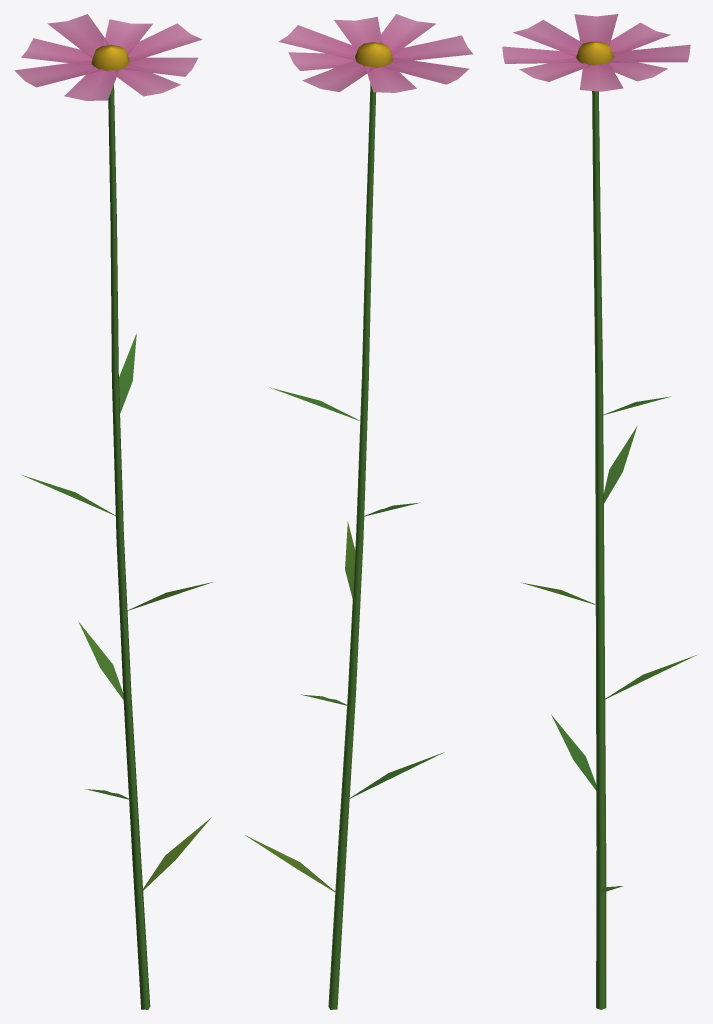
File: flower-cosmos-a.lod0.glb
The picture shows the model from 3 angles, left to right: view 1: azimuth 30°, elevation 25°; view 2: azimuth 150°, elevation 25°; view 3: azimuth 270°, elevation 25°; orthographic projection. The views are drawn at different scales.
Visible parts, largest first — view 1: flower-cosmos-a.lod0; view 2: flower-cosmos-a.lod0; view 3: flower-cosmos-a.lod0.
Boxes of the visible parts, bbox=[...] form: flower-cosmos-a.lod0: bbox=[14, 14, 212, 1009]; flower-cosmos-a.lod0: bbox=[245, 14, 473, 1009]; flower-cosmos-a.lod0: bbox=[502, 14, 696, 1009].
Bounding box in the file's own units: 0.1229 × 0.5676 × 0.1067.
